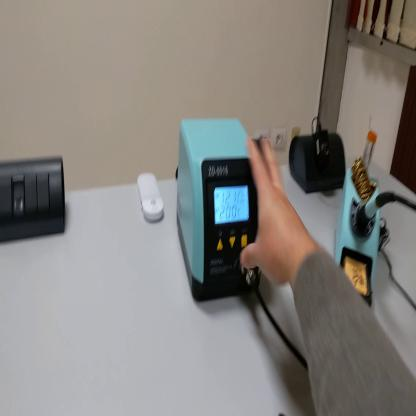hand: (240, 135, 304, 286)
socket: (291, 131, 347, 194)
welder base: (334, 128, 393, 313)
welder probe tip: (357, 188, 385, 240)
welder station: (174, 117, 260, 301)
